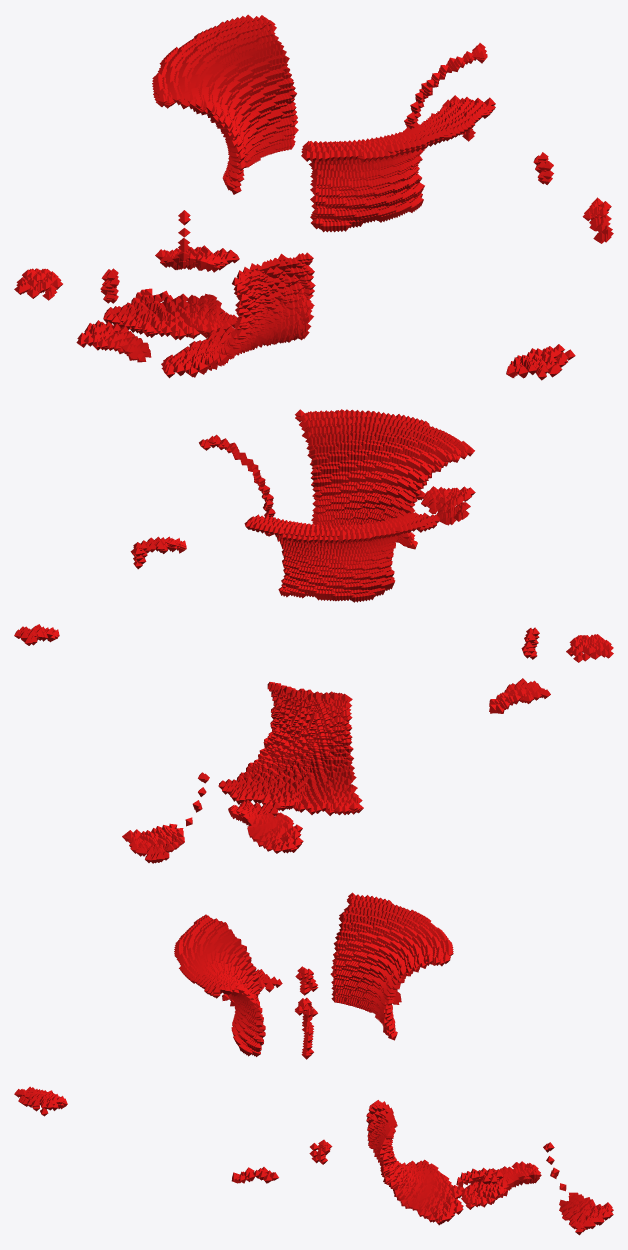
The model's file is feasible_centers_display.obj.
3 views of the same model, one above another, from view 1: azimuth 30°, elevation 25°; view 2: azimuth 150°, elevation 25°; view 3: azimuth 270°, elevation 25° (orthographic). The views are drawn at different scales.
Parts seen in each view (by area): view 1: feasible_center_markers; view 2: feasible_center_markers; view 3: feasible_center_markers.
Boxes of the visible parts, left/top/right/bottom form: feasible_center_markers: left=14, top=14, right=613, bottom=380; feasible_center_markers: left=14, top=409, right=613, bottom=863; feasible_center_markers: left=14, top=892, right=613, bottom=1235.
Bounding box in the file's own units: 0.7802 × 0.4493 × 0.939.
